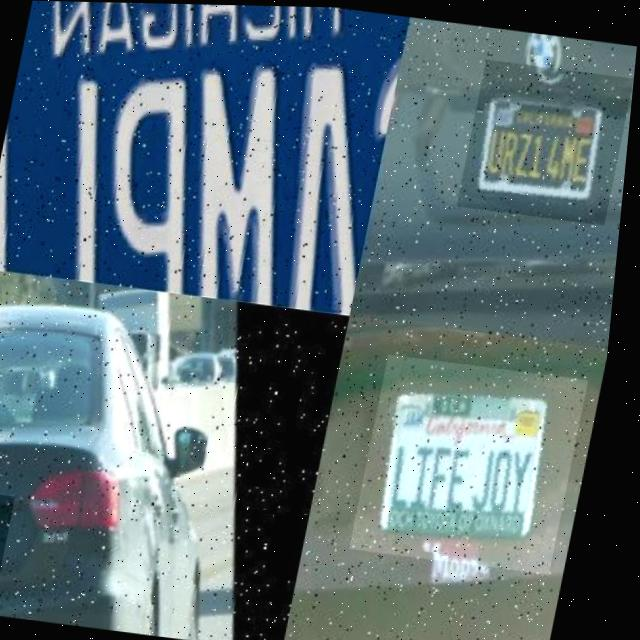LicensePlate: (0, 0, 410, 313), (357, 351, 597, 572), (458, 57, 636, 223), (0, 486, 25, 576)
